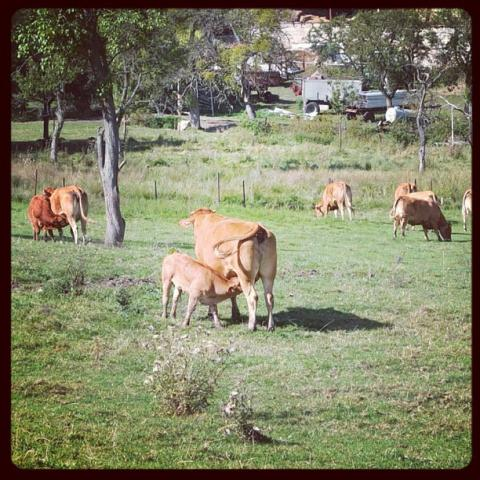truck: (302, 79, 372, 116)
